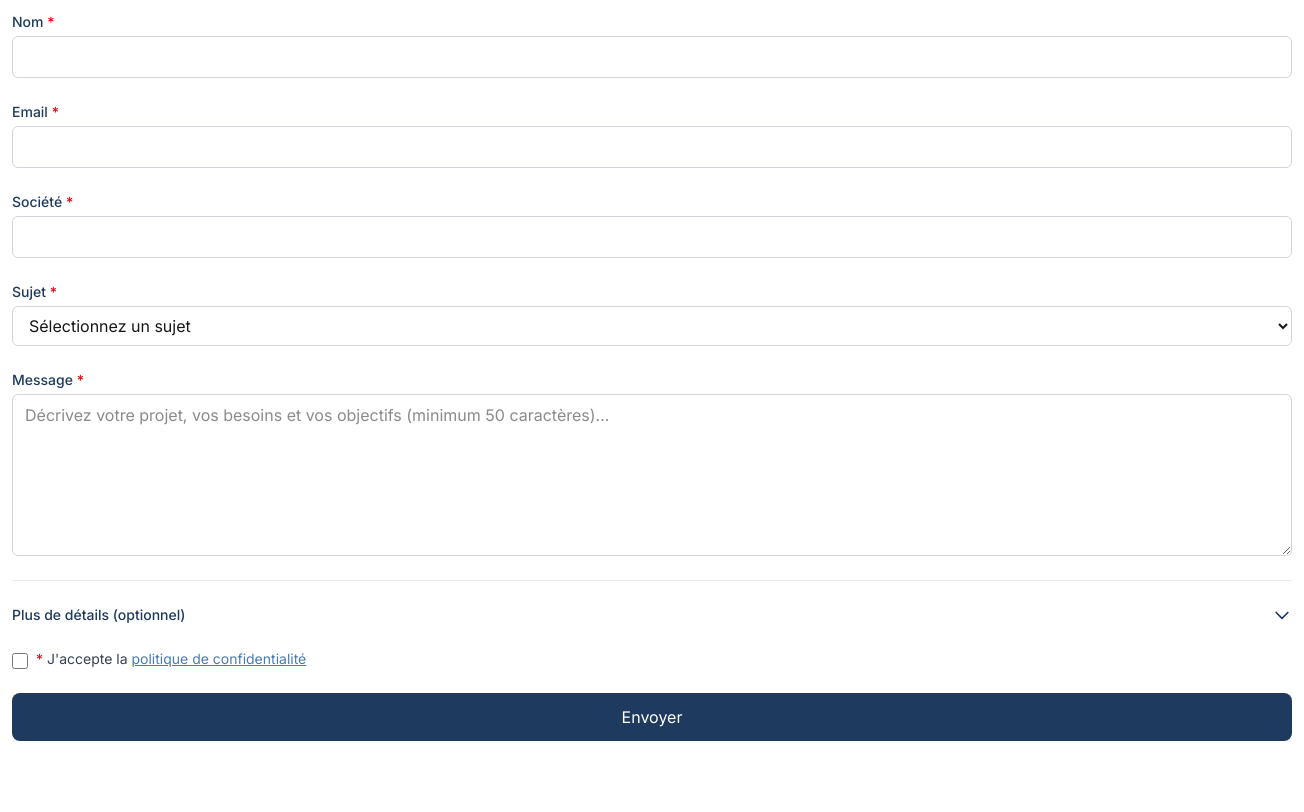
Test: ContactForm › shows error for short message on submit
The image size is (1304, 812).
Fill required fields except message with short content
Type "Jean Dupont" into the field labelled "Nom *".
click(652, 57); type("Jean Dupont")  # box [12,36,1292,78]
Type "jean@example.com" into the field labelled "Email *".
click(652, 147); type("jean@example.com")  # box [12,126,1292,168]
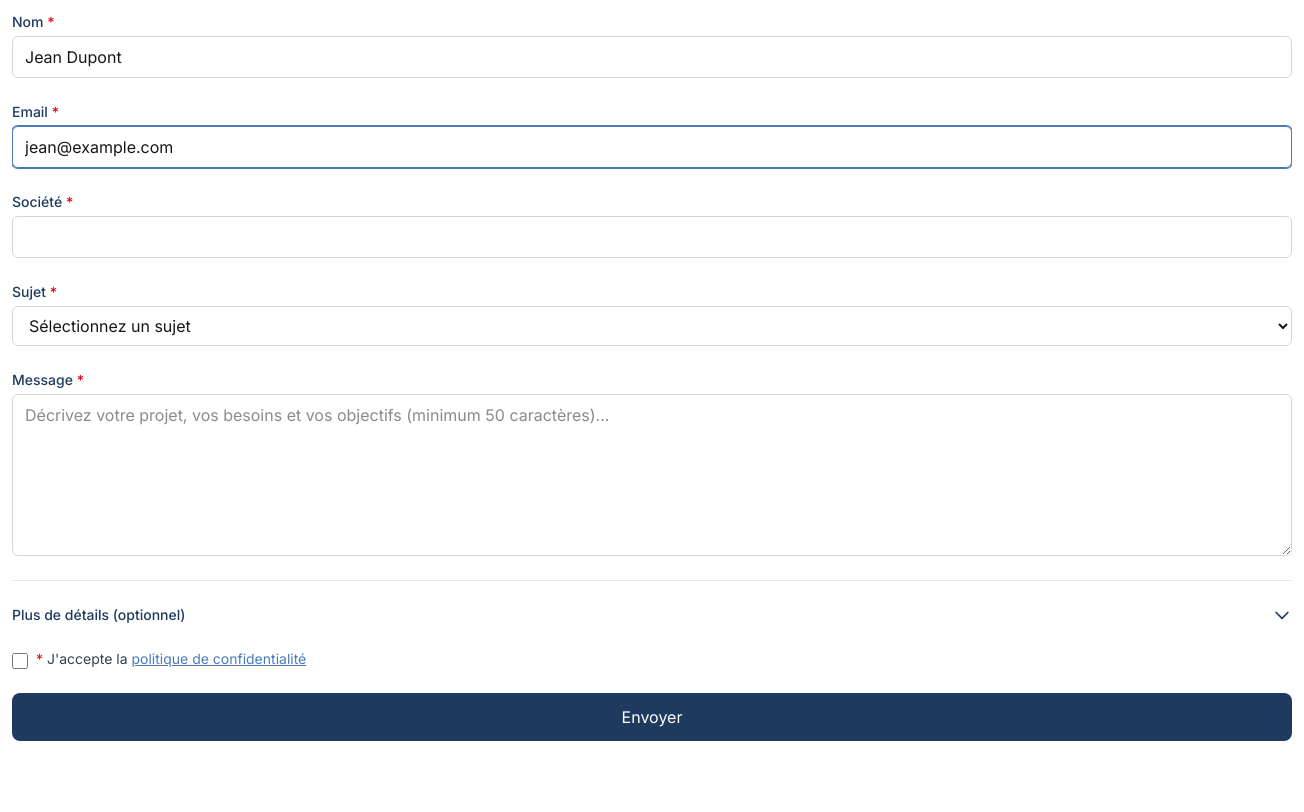
Type "Acme" into the field labelled "Société *".
click(652, 237); type("Acme")  # box [12,216,1292,258]
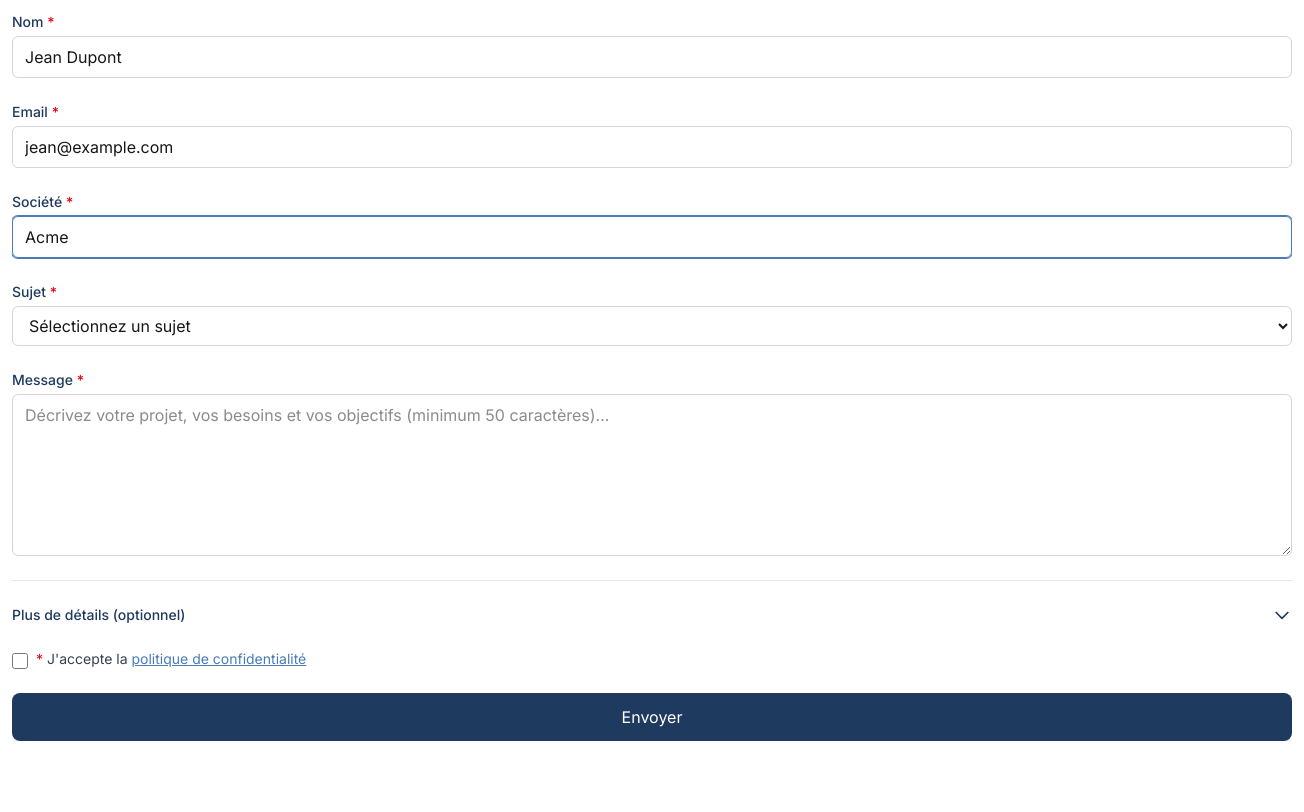
Select "Mobile — Flutter / React Native / MVP" in the dropdown labelled "Sujet *" at (652, 326), box [12,306,1292,346]
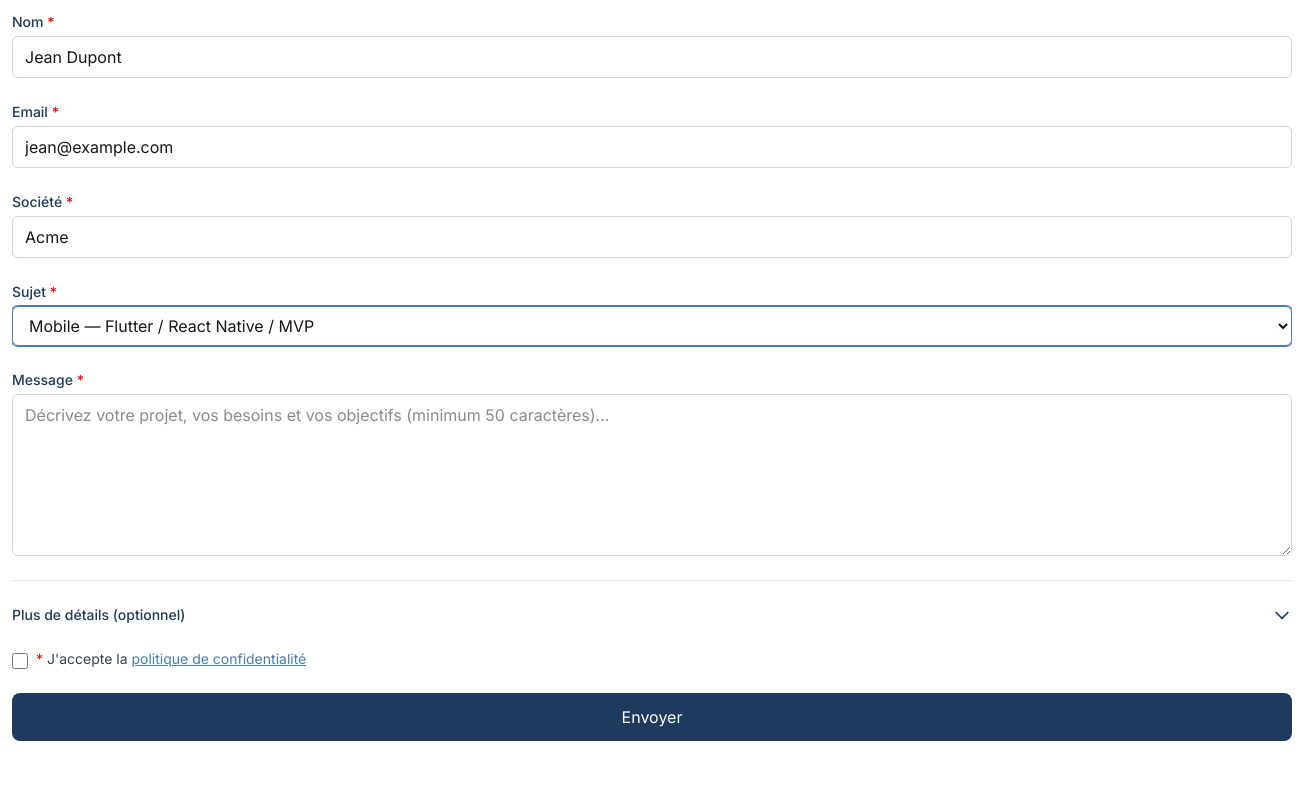
Type "Too short" into the text box labelled "Message *".
click(652, 475); type("Too short")  # box [12,394,1292,556]
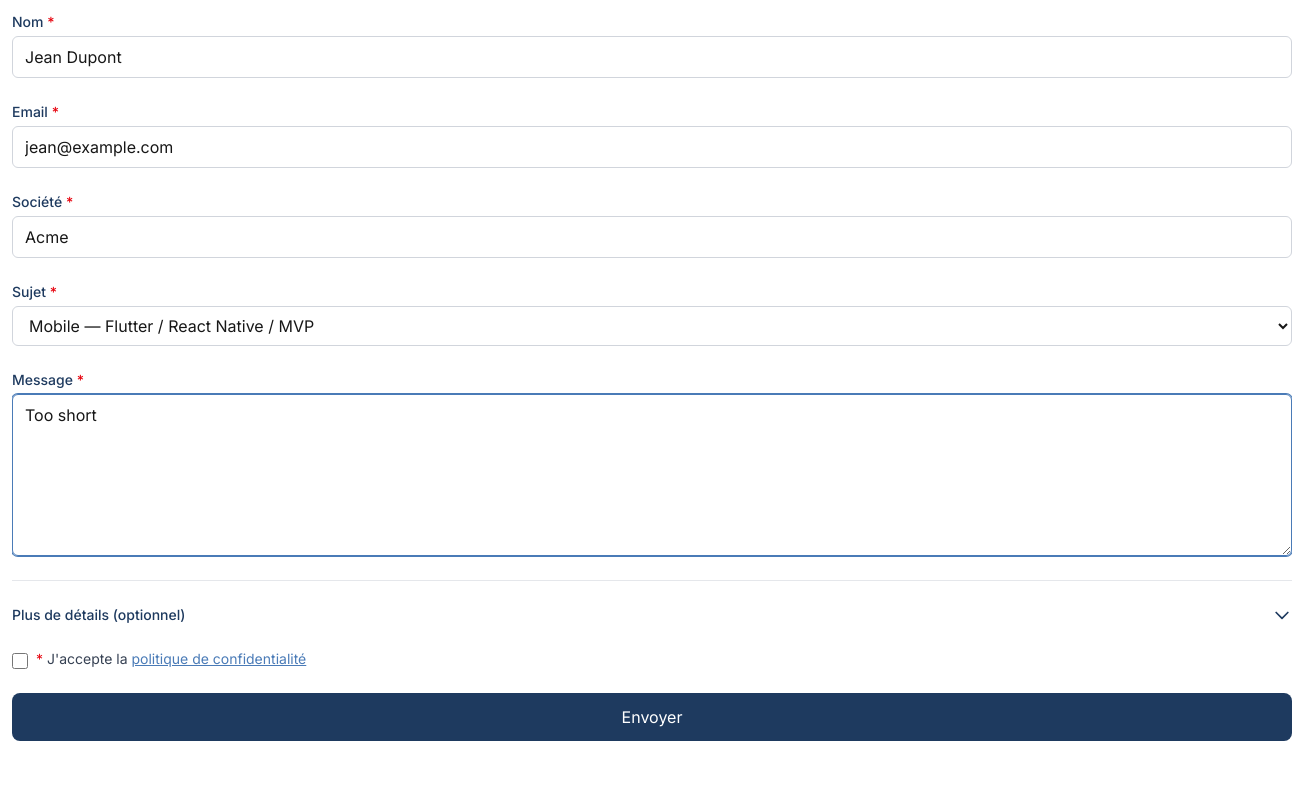
Click the checkbox labelled "* J'accepte la politique de confidentialité".
click(20, 661)  # box [12,653,28,669]
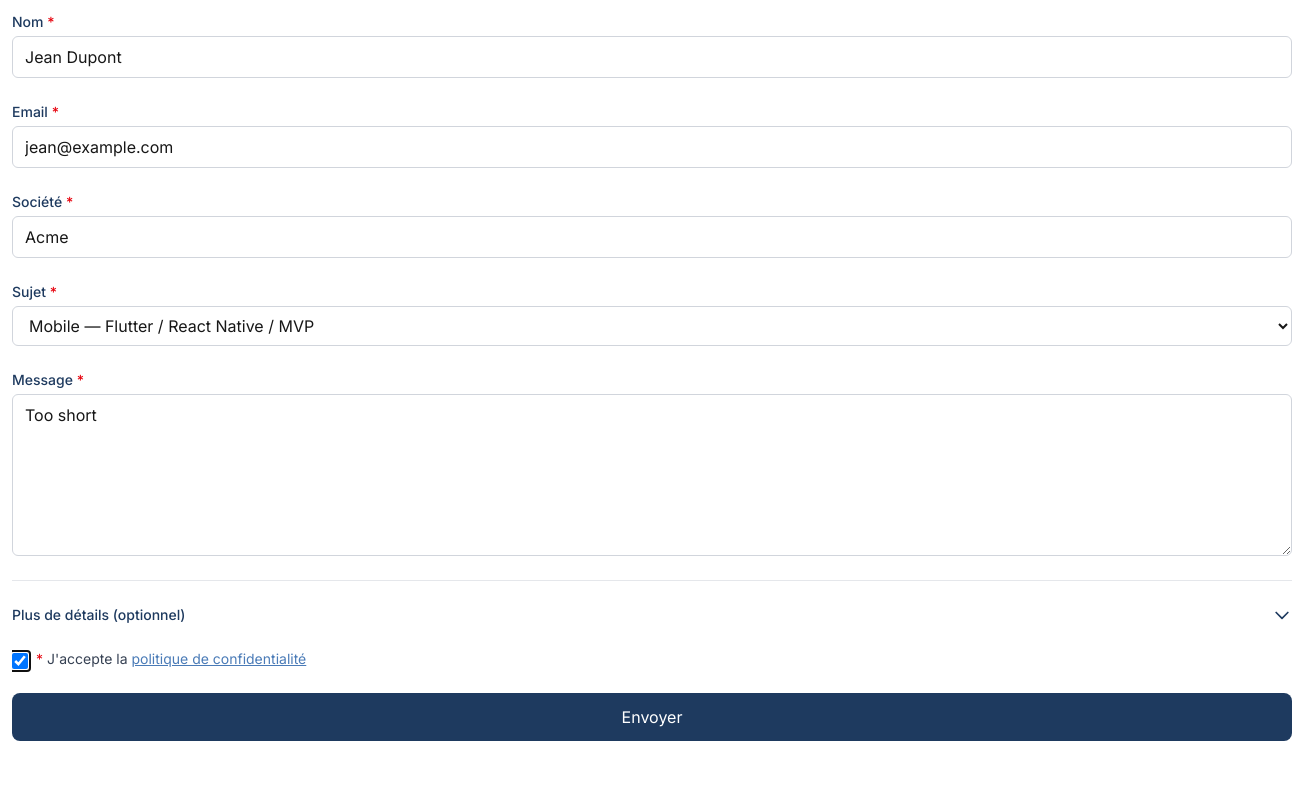
Submit form
Click the button "Envoyer".
click(652, 717)  # box [12,693,1292,741]
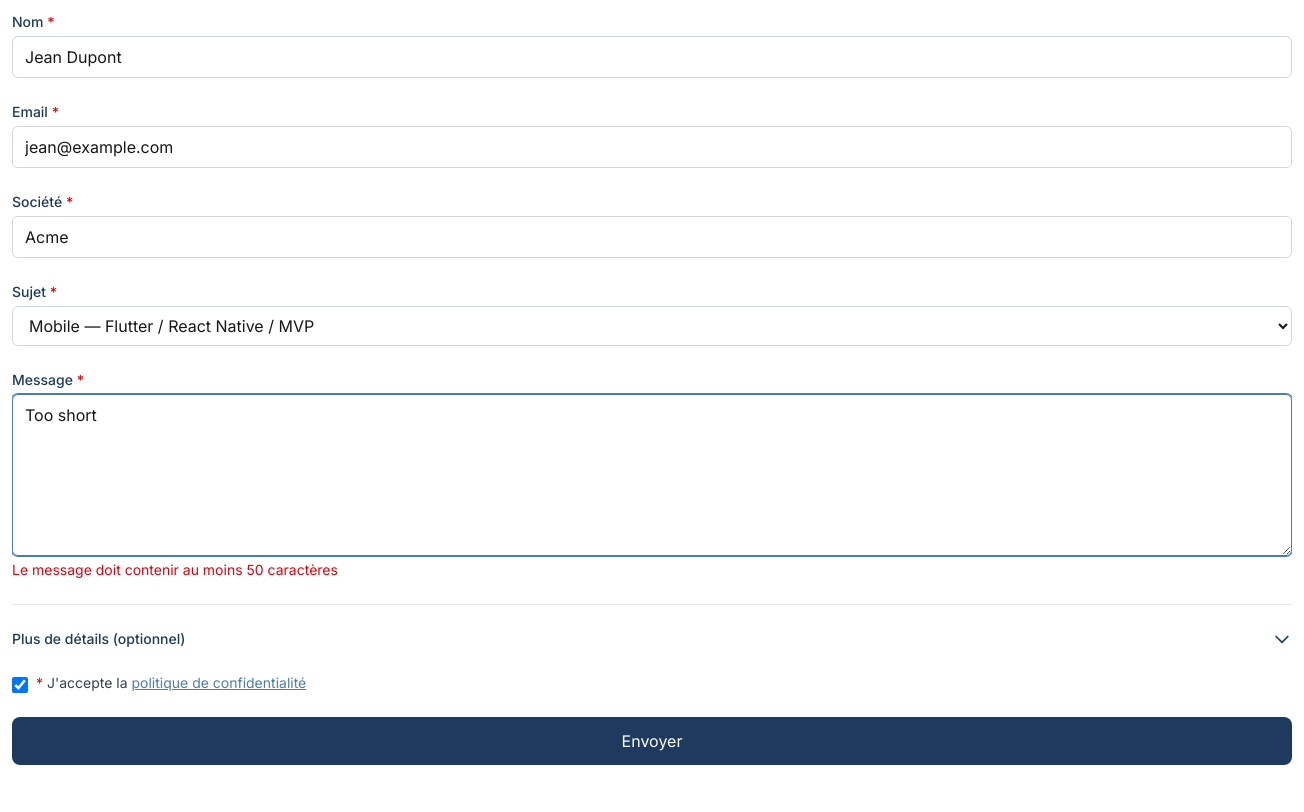
Expected: the text "Le message doit contenir au moins 50 caractères" is shown, [12,561,338,578]
